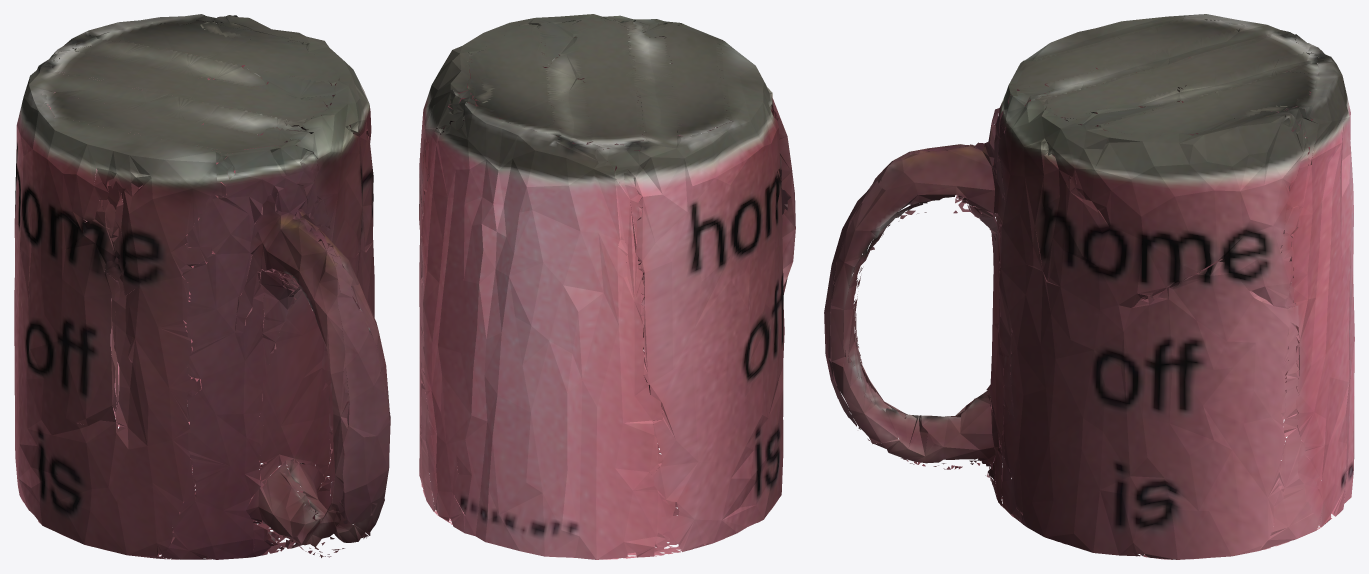
File: tasse_collider.glb
3 renders of one model, left to right at view 1: azimuth 30°, elevation 25°; view 2: azimuth 150°, elevation 25°; view 3: azimuth 270°, elevation 25°, orthographic.
Visible parts, largest first — view 1: tasse; view 2: tasse; view 3: tasse.
Boxes of the visible parts, left/top/right/bottom form: tasse: left=14, top=14, right=390, bottom=559; tasse: left=419, top=14, right=795, bottom=559; tasse: left=824, top=14, right=1354, bottom=559.
Size of what is drawn, in the model's own units: 0.4812 by 0.5988 by 0.6996.
Materials: 1 (1 with a texture image).
